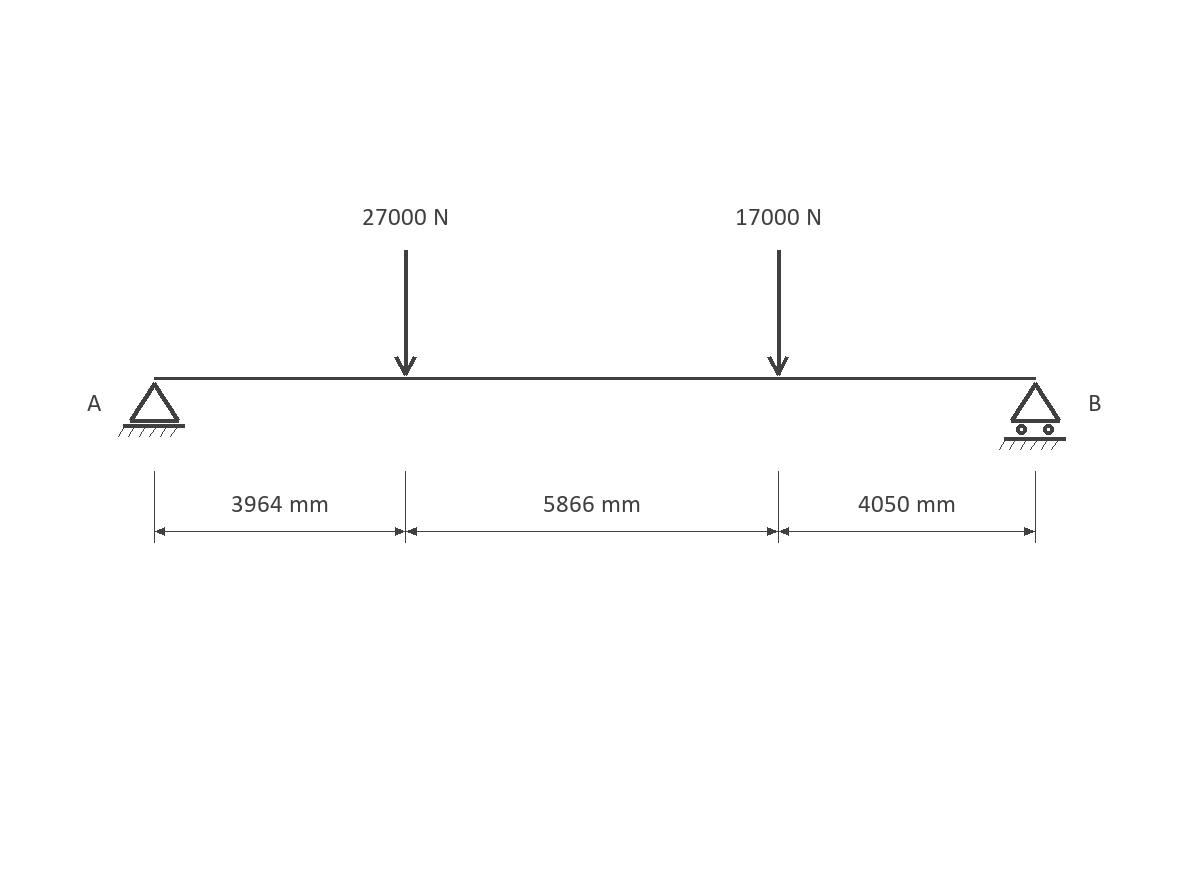pin_support: (118, 382, 185, 437)
point_load: (394, 250, 417, 376), (767, 250, 789, 376)
roller_support: (999, 382, 1066, 450)
